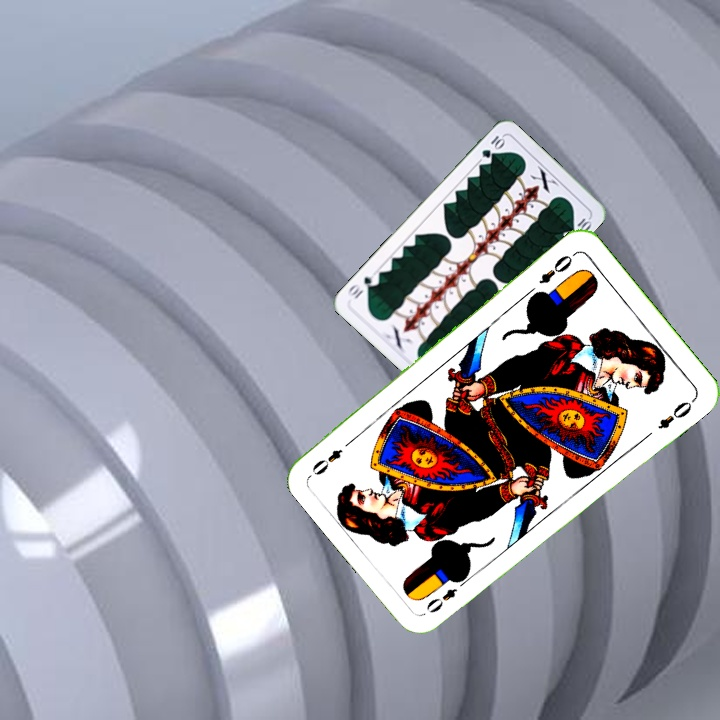EO: (422, 573, 471, 616), (534, 248, 579, 287)
G10: (477, 131, 507, 161)
